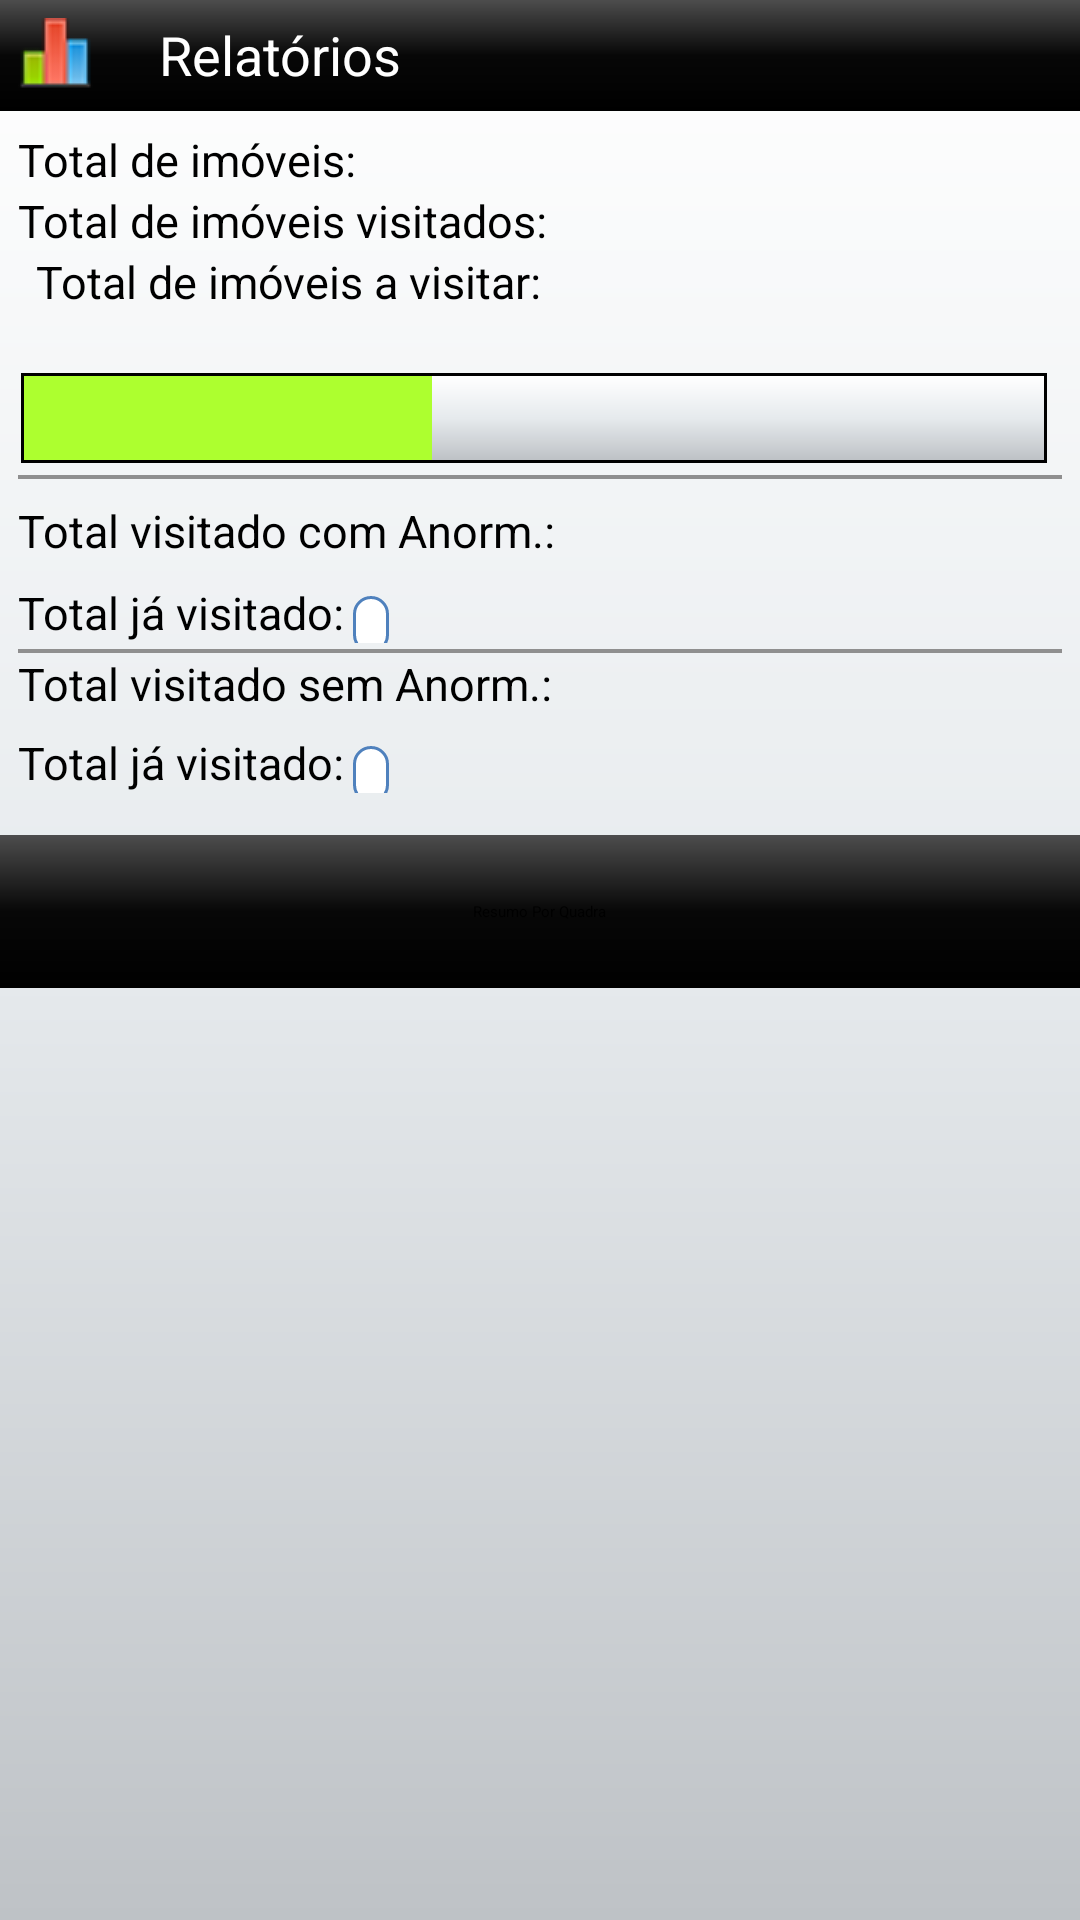

Screen size 1080×1920. Icon name, then its center in pixels as [x,y]:
chart bar: [55,55]
